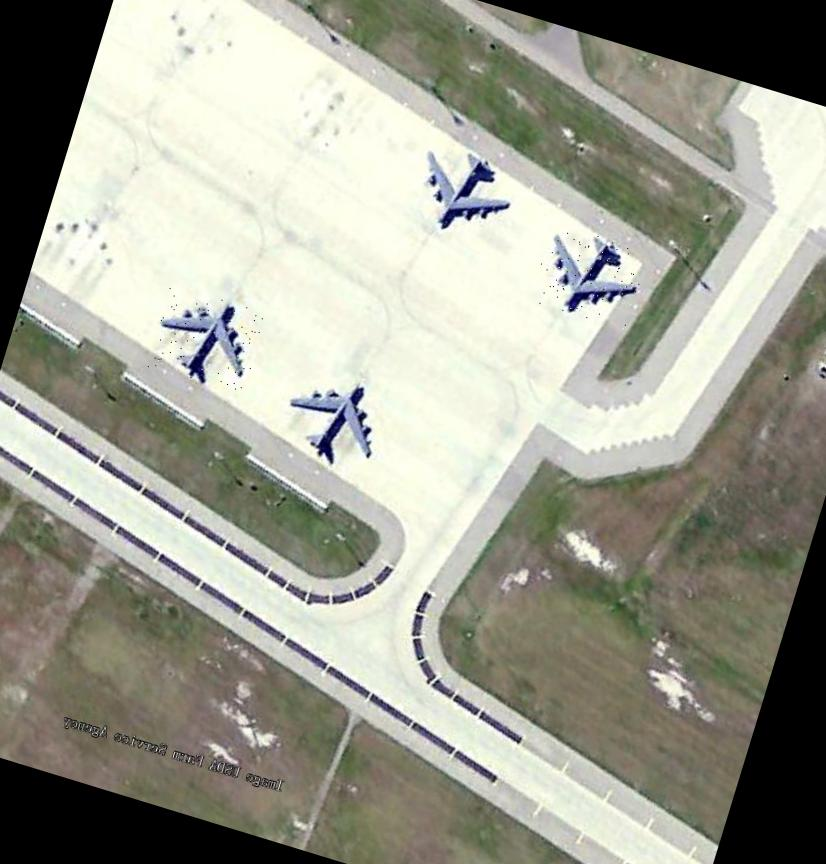A8: (275, 356, 401, 476), (146, 280, 268, 396), (404, 137, 520, 251), (530, 222, 650, 330)
